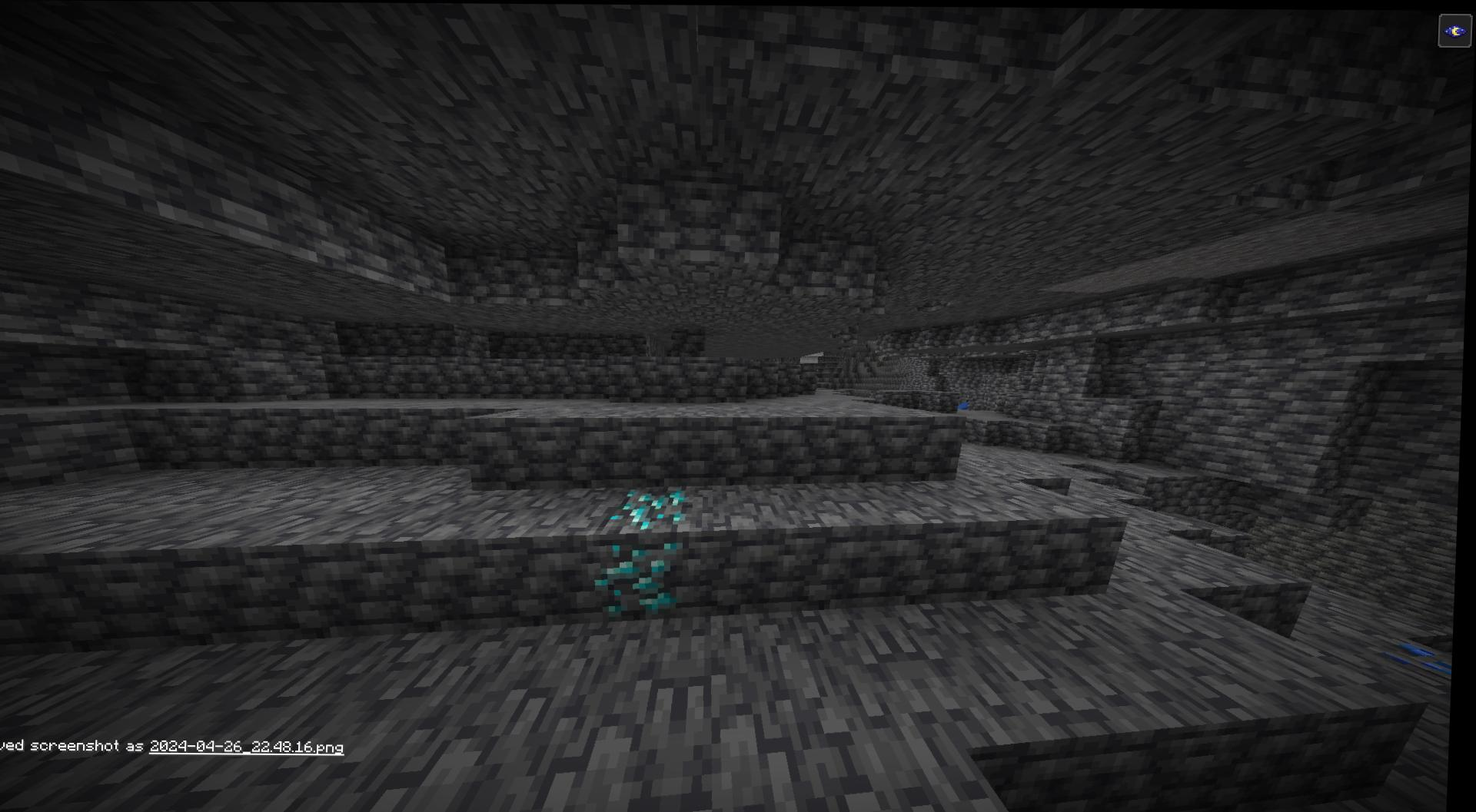diamond ore: (600, 537, 698, 621), (609, 487, 700, 536)
